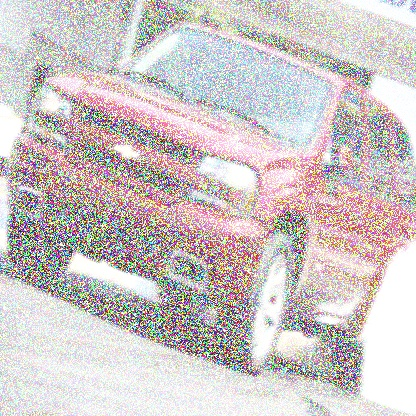Vehicle: (8, 21, 415, 395)
